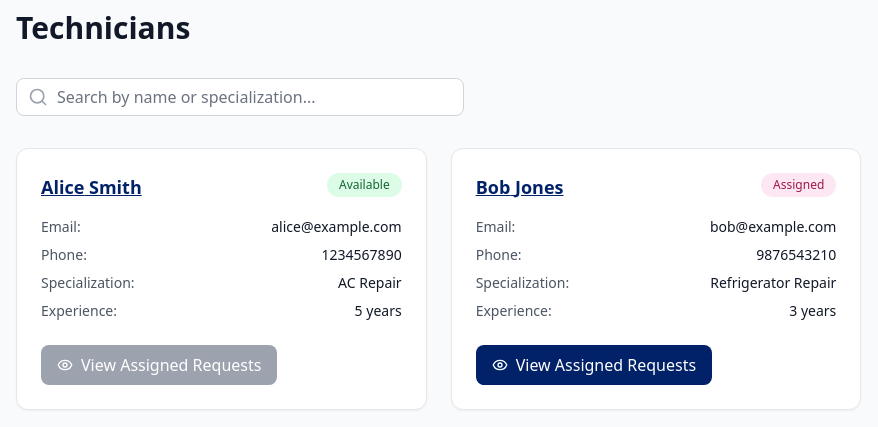
Test: TechnicianList › shows empty state when no search results
This screenshot has width=878, height=427.
Expected: the heading "Alice Smith" is shown, [41, 173, 142, 201]
In the field with placeholder "Search by name or specialization...": point(240, 97) [16, 78, 464, 116], type "xyz"
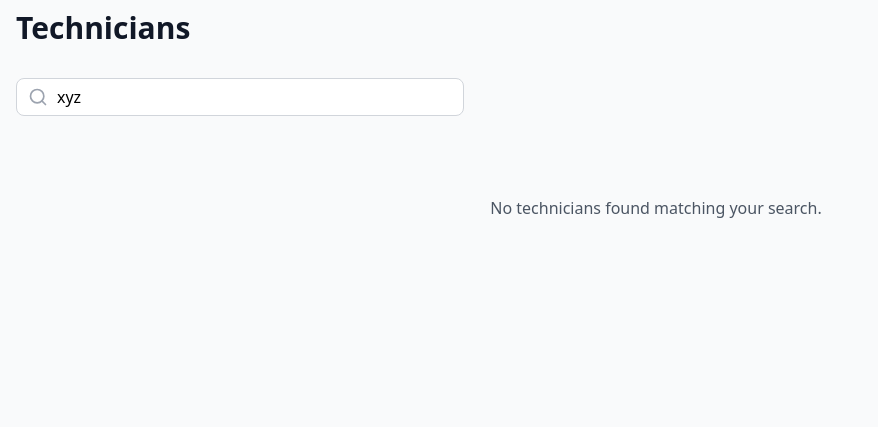
Now the text "No technicians found matching your search." is shown, box [490, 197, 822, 219]
